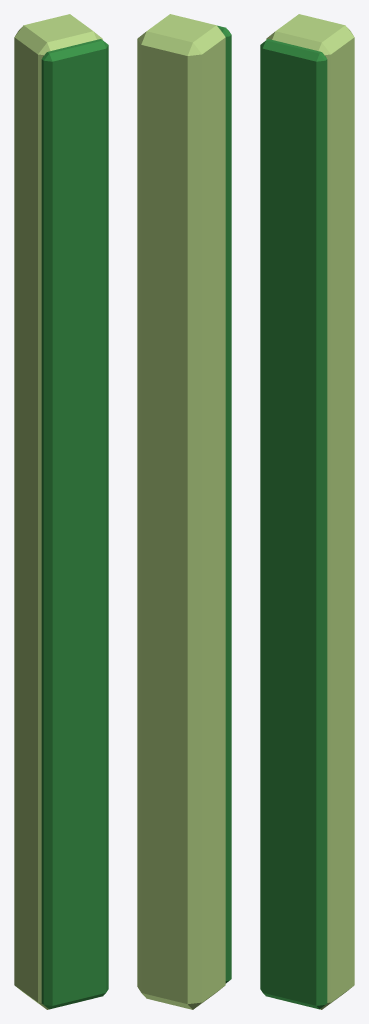
The model's file is cucumber.glb.
3 renders of one model, left to right at view 1: azimuth 30°, elevation 25°; view 2: azimuth 150°, elevation 25°; view 3: azimuth 330°, elevation 25°, orthographic.
Visible parts, largest first — view 1: cucumber_skin, cucumber_baton; view 2: cucumber_baton, cucumber_skin; view 3: cucumber_skin, cucumber_baton.
Part boxes in pixels (x1,y1,x2,y2): cucumber_skin: (41,39,108,1009); cucumber_baton: (14,14,102,1009); cucumber_baton: (137,14,225,1009); cucumber_skin: (217,25,231,983); cucumber_skin: (260,39,327,1009); cucumber_baton: (266,14,354,1009).
Size of the model in its own units: 0.07 by 0.998 by 0.071.
